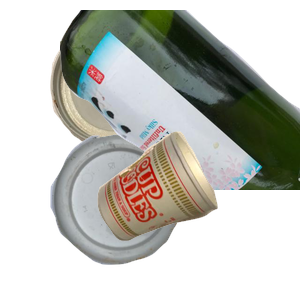glass: (60, 10, 300, 190)
metal: (47, 16, 214, 157)
plastic: (48, 132, 224, 300)
trash: (95, 129, 300, 300)
